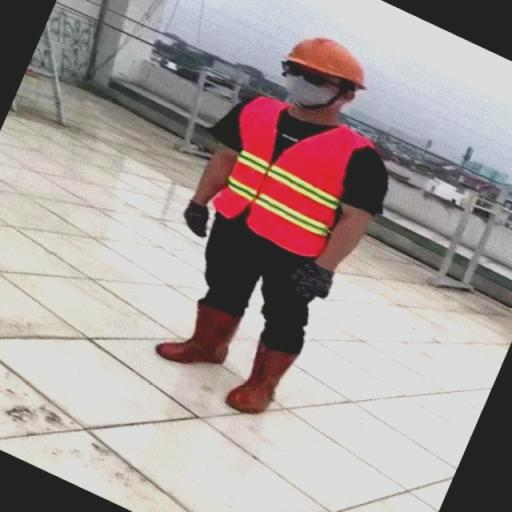Person: (154, 16, 406, 426)
boots: (219, 338, 309, 416), (154, 296, 238, 370)
gloves: (178, 198, 220, 240), (293, 261, 338, 298)
helmet: (278, 29, 370, 91)
vest: (208, 89, 378, 266)
